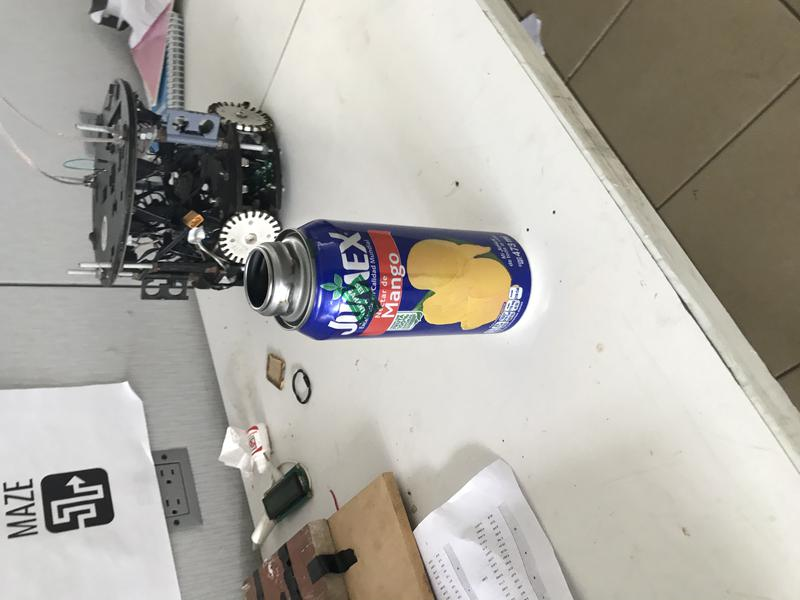jumex_botella: (241, 219, 532, 342)
